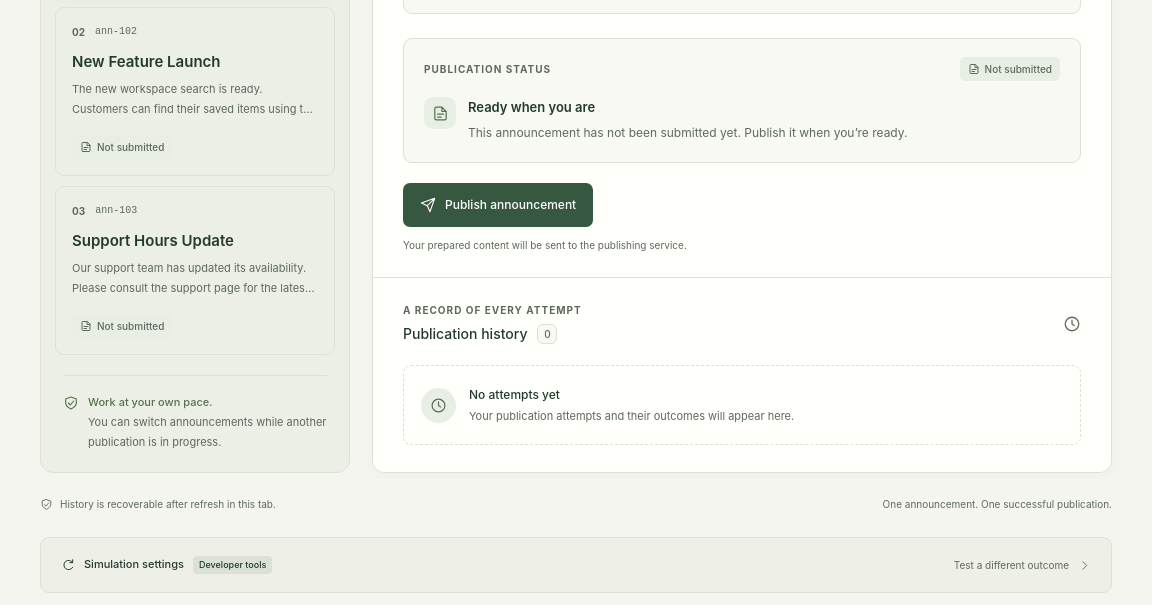
Test case: selection › marks the selected announcement and shows its own content
(page scrolled)
Click the button "Support Hours Update". click: click(195, 270)
box: [55,186,335,355]
(page scrolled)
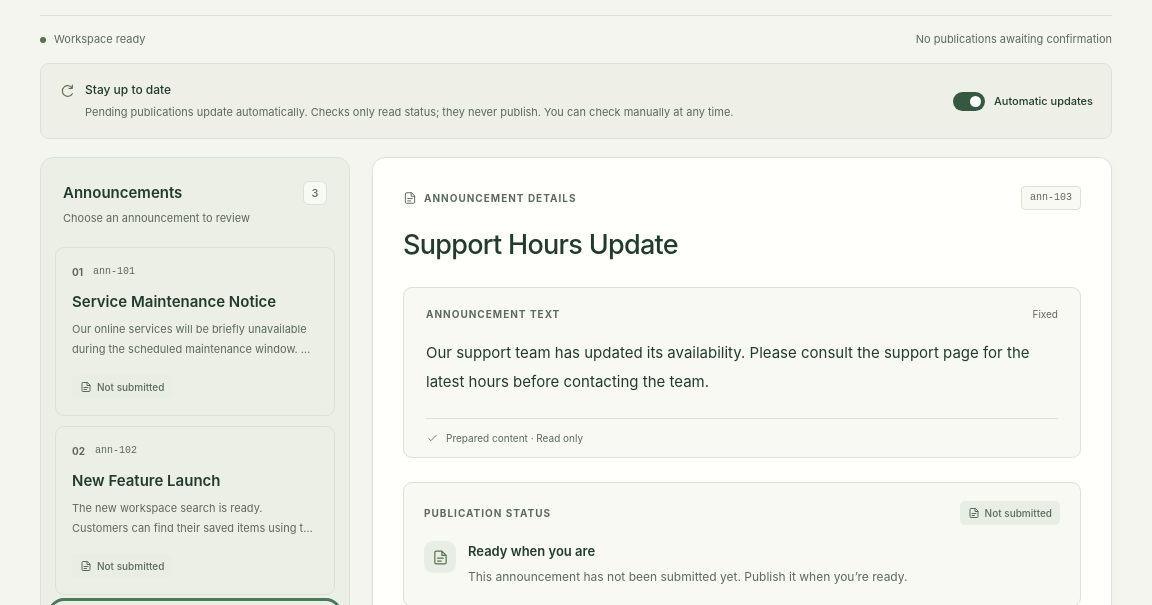
Expected: the heading "Support Hours Update" is shown, [403,228,678,261]
